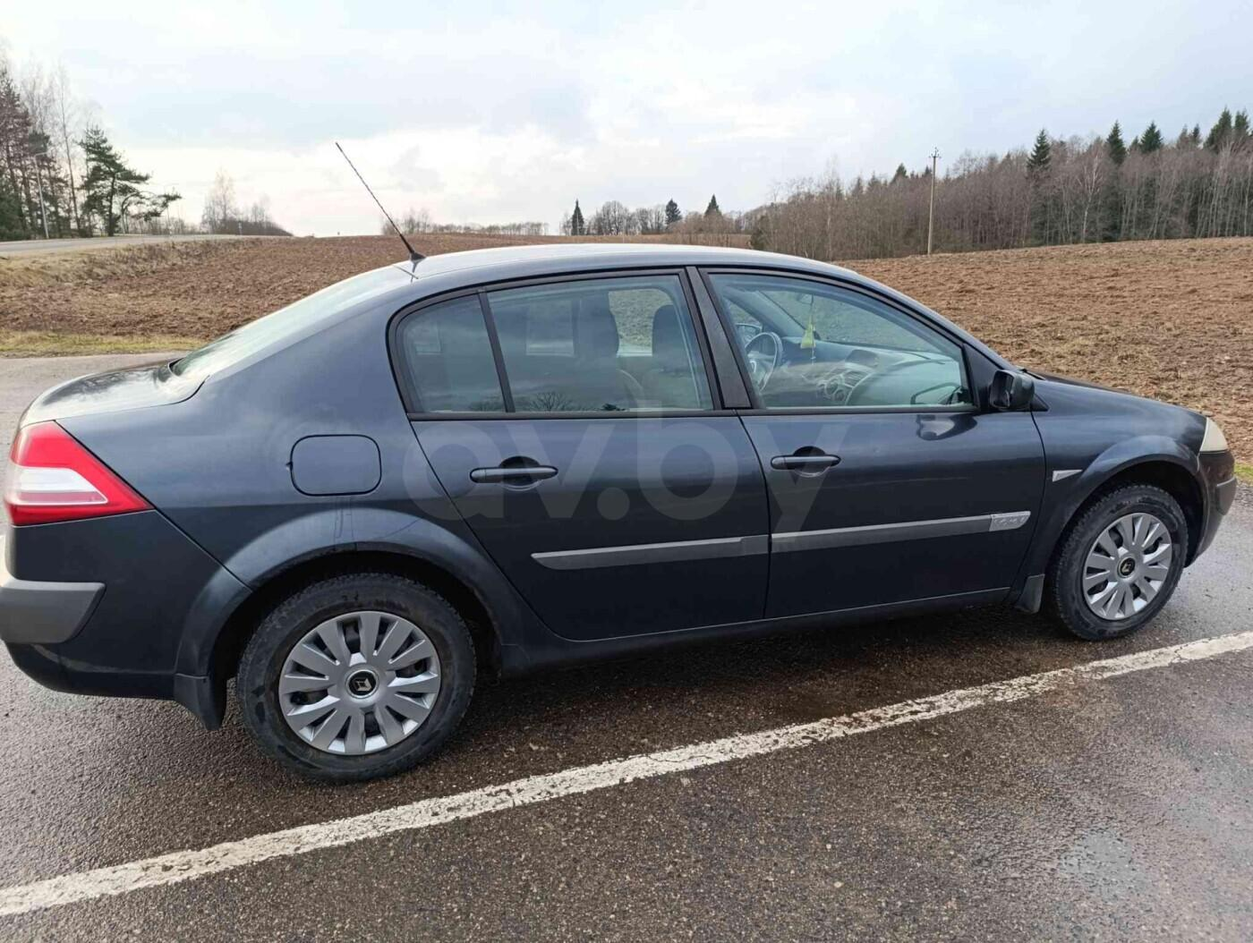Megane_2005-2009: (0, 226, 1247, 786)
